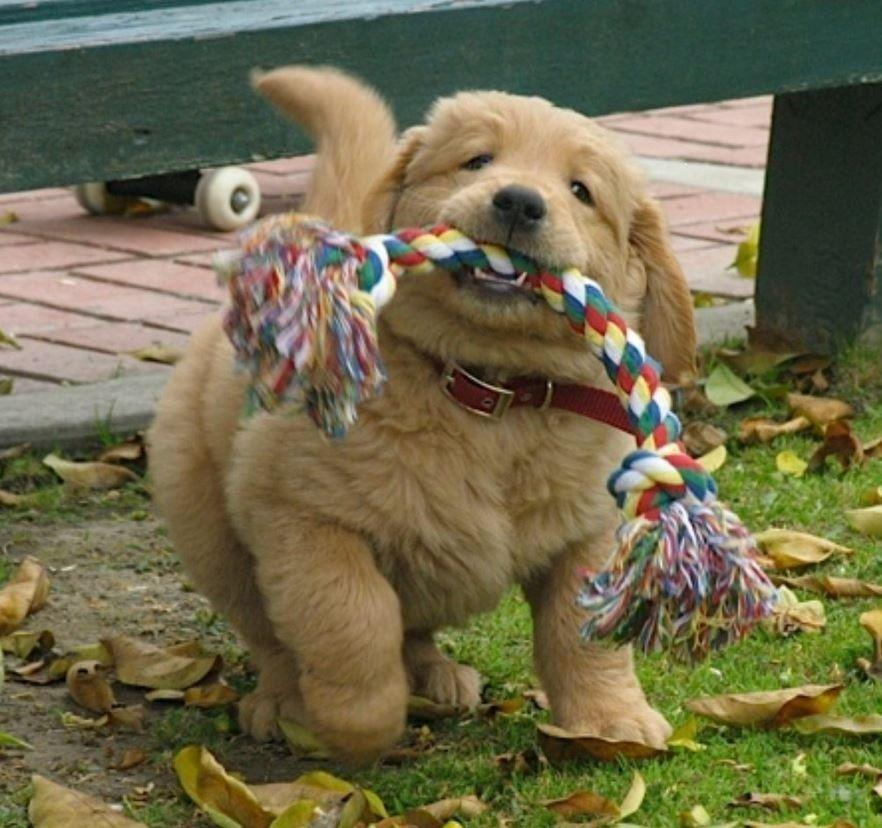puppy-dog: (147, 61, 697, 760)
